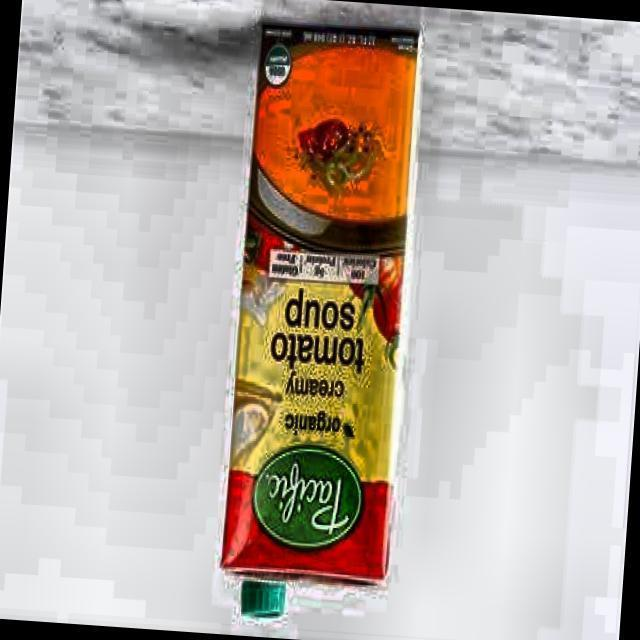cardboard: (218, 19, 430, 597)
